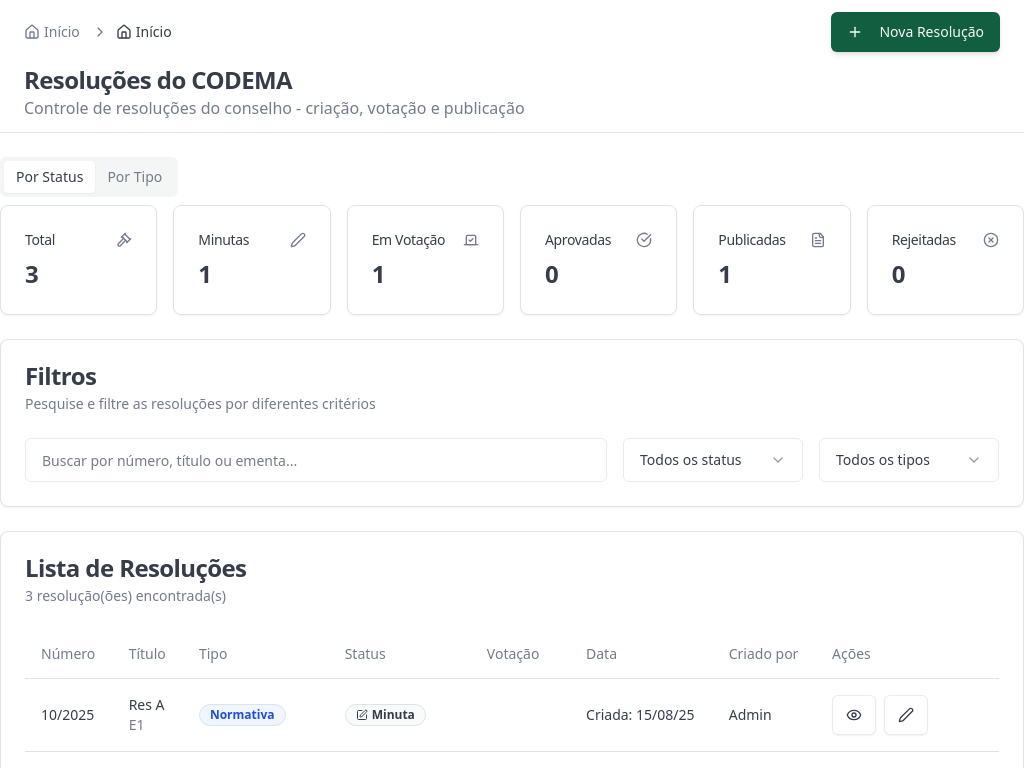
Test: Página de Resoluções › abre o diálogo de Nova Resolução ao clicar no botão
Expected: the heading "Resoluções do CODEMA" is shown, x1=24 y1=63 x2=292 y2=96
Click the button "Nova Resolução" at coordinates (916, 32), box x1=832 y1=12 x2=1000 y2=52
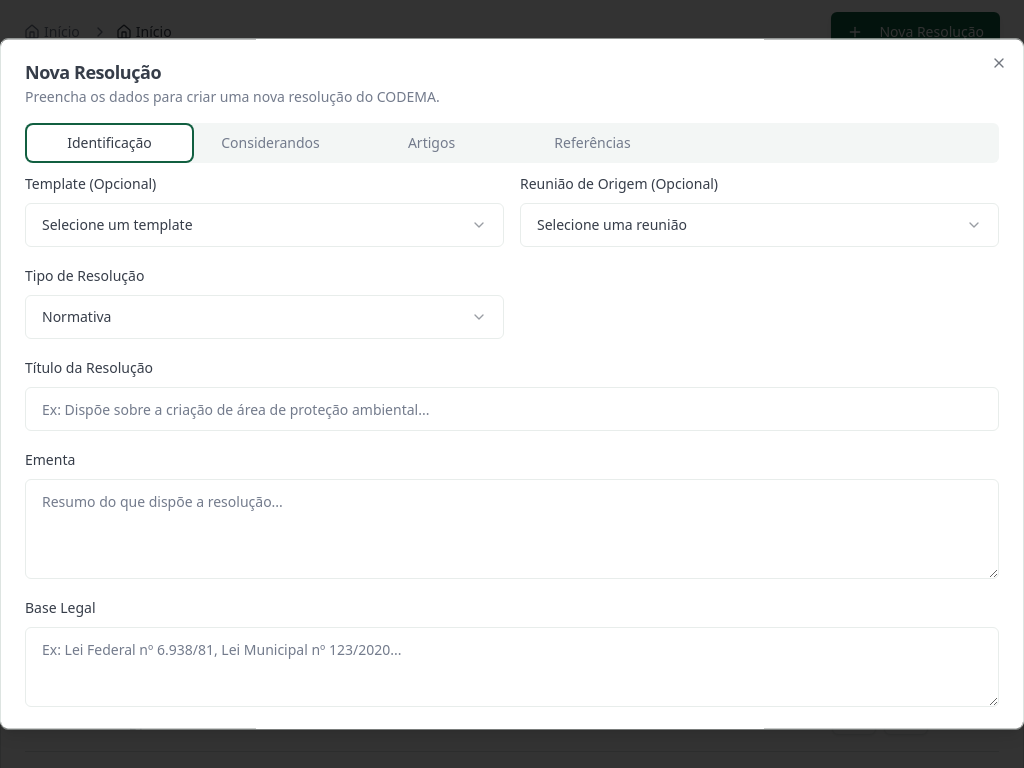
Expected: the heading "Nova Resolução" is shown, x1=25 y1=60 x2=161 y2=84
